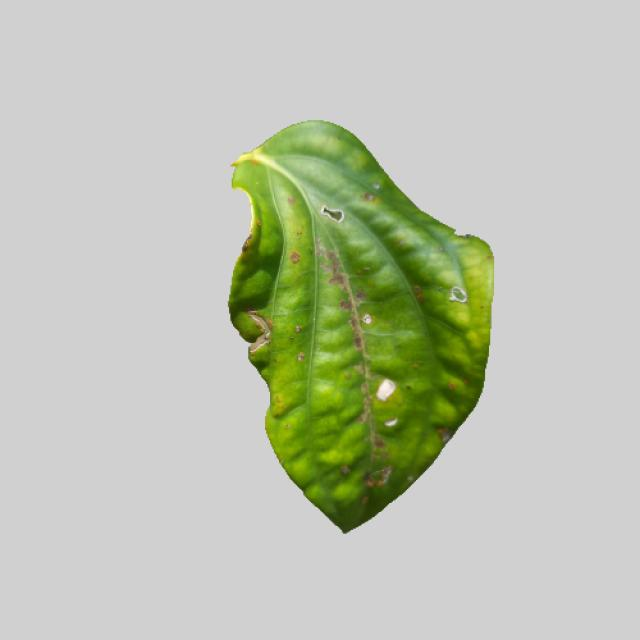yellow-mottle-virus: (207, 122, 503, 530)
